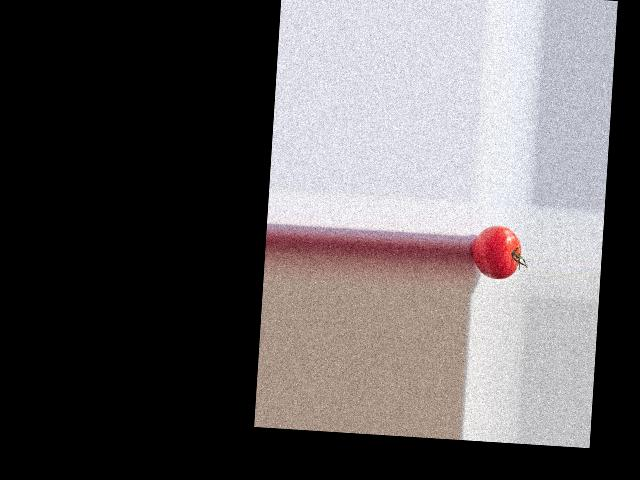tomato: (469, 223, 521, 279)
